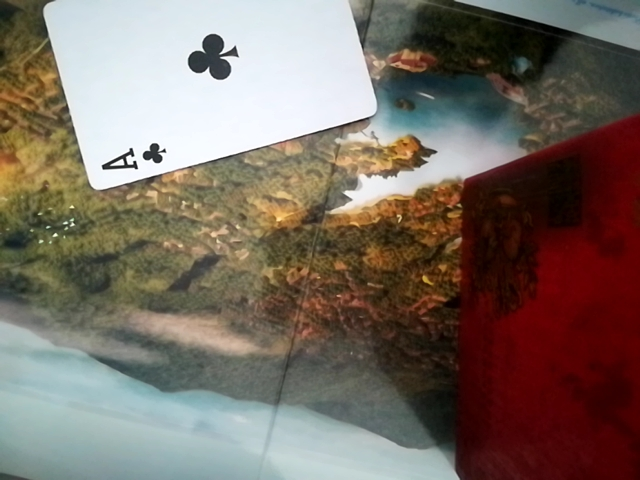mh a: (38, 0, 385, 187)
